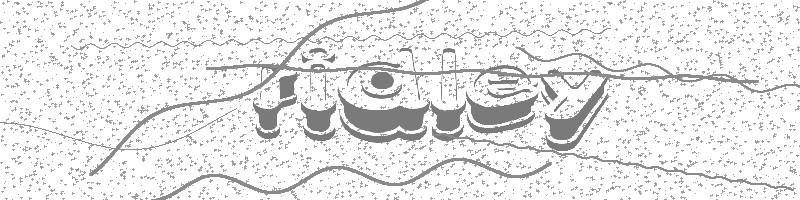d: (336, 45, 431, 141)
e: (464, 63, 538, 133)
i: (300, 44, 340, 142)
l: (430, 45, 468, 141)
r: (254, 62, 302, 140)
y: (540, 68, 612, 151)
